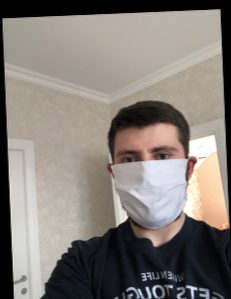with_mask: (112, 137, 188, 229)
